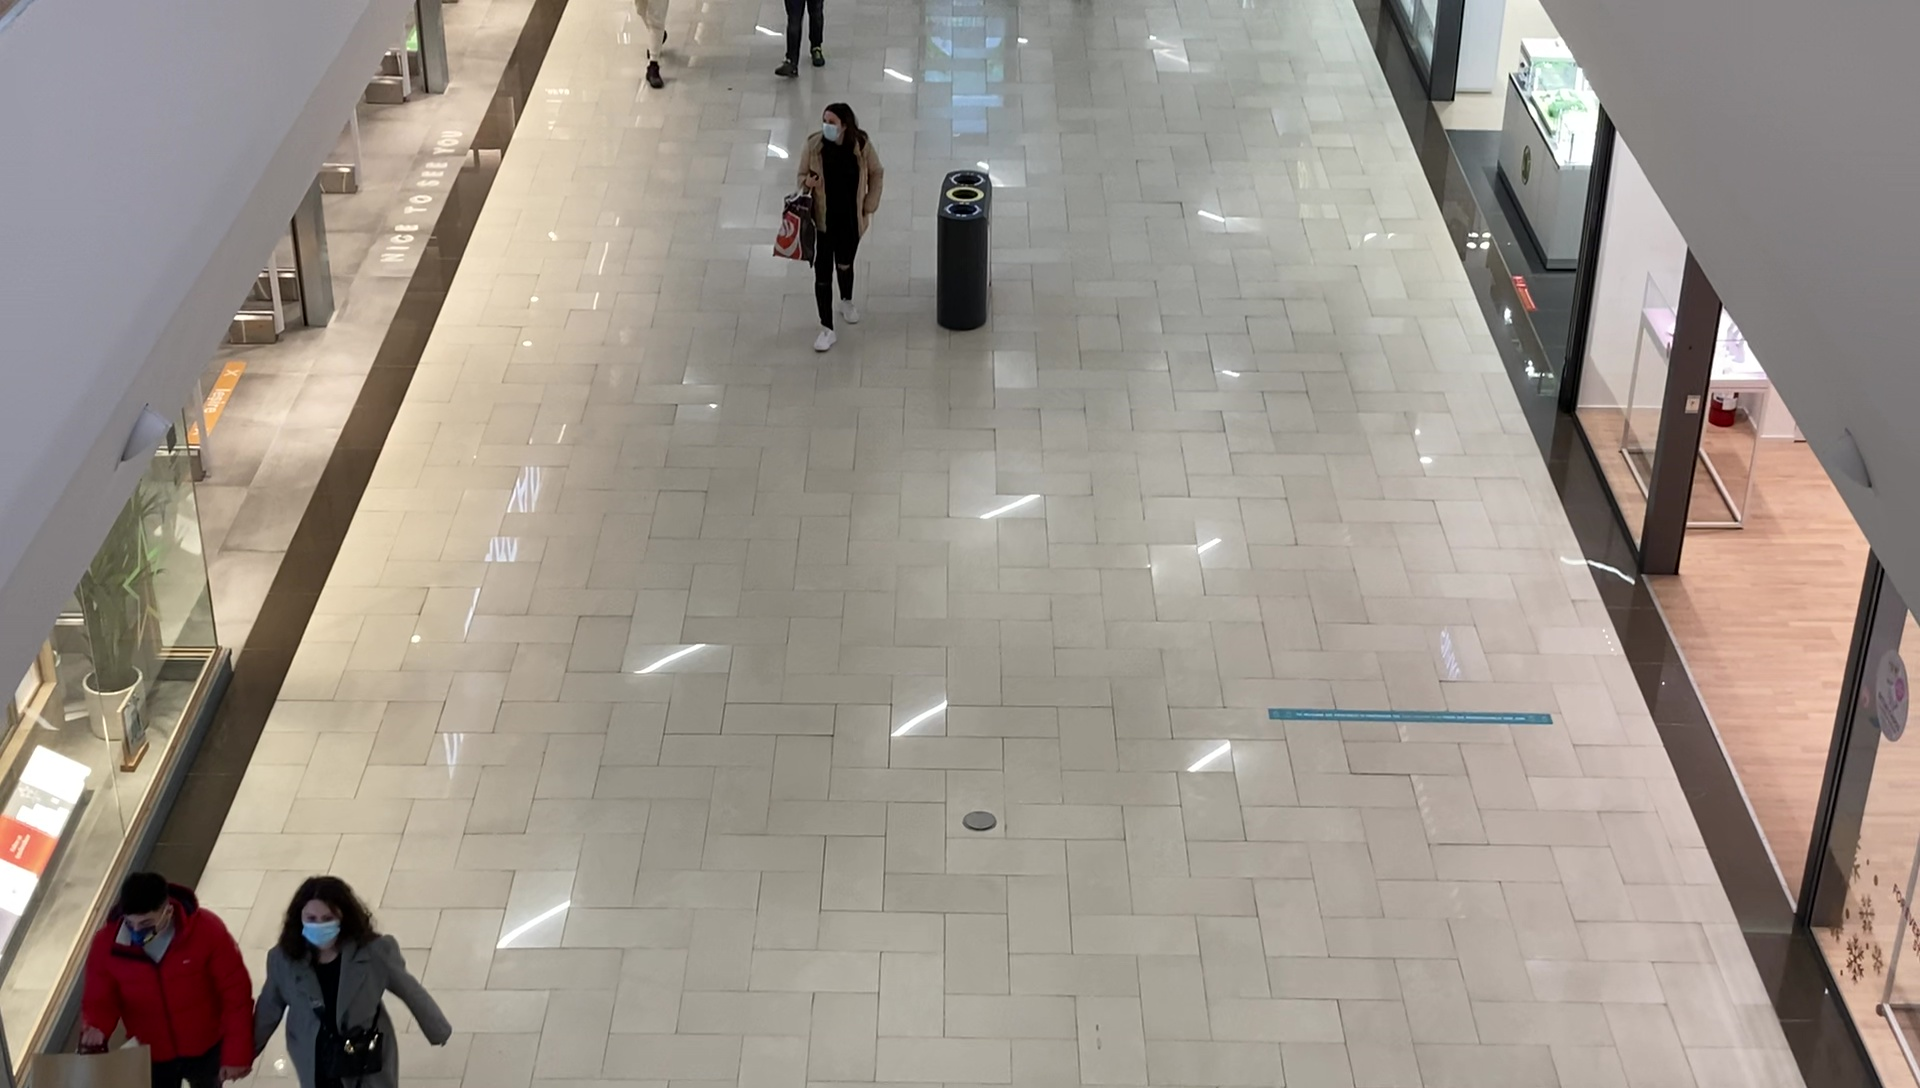person: (252, 876, 452, 1088), (77, 872, 252, 1088), (795, 104, 887, 355)
